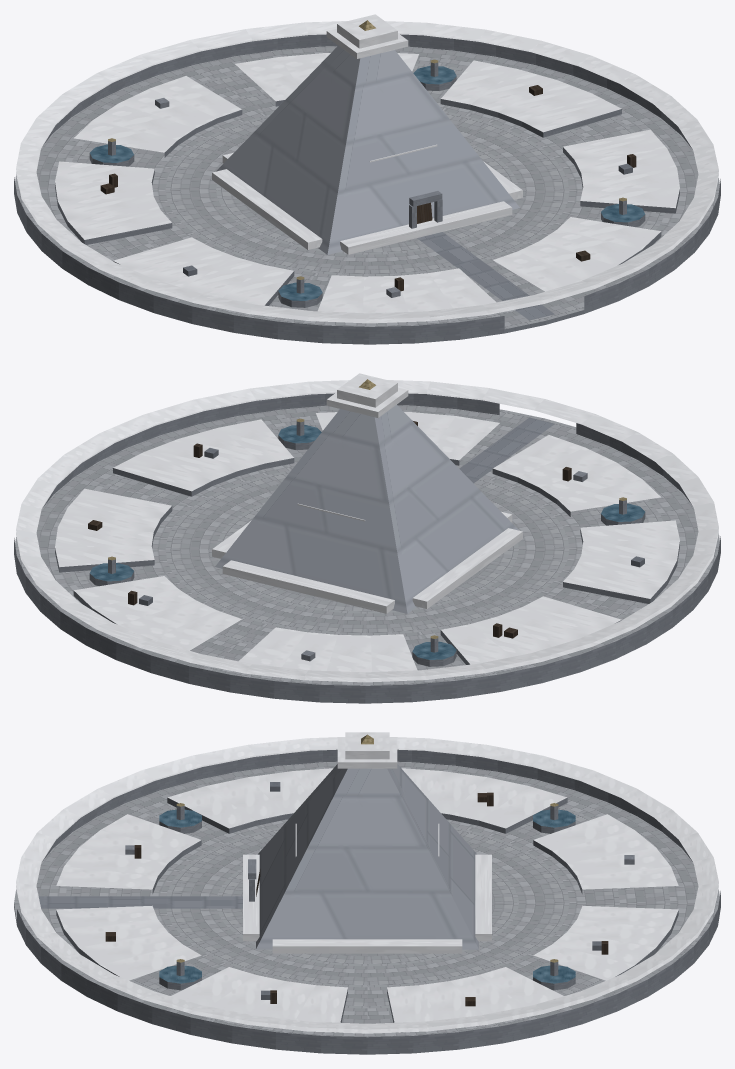
Rendered from pyramid_small_lod0.glb.
3 renders of one model, top to bottom at view 1: azimuth 30°, elevation 25°; view 2: azimuth 150°, elevation 25°; view 3: azimuth 270°, elevation 25°, orthographic.
Visible parts, largest first — view 1: pyramid_small_lod0; view 2: pyramid_small_lod0; view 3: pyramid_small_lod0.
Boxes of the visible parts, x1,y1,x2,y2 form: pyramid_small_lod0: (14, 14, 720, 344); pyramid_small_lod0: (14, 373, 720, 703); pyramid_small_lod0: (14, 732, 720, 1054).
Size of the model in its own units: 1.88 by 0.512 by 1.9.
1 material, 1 textured.
